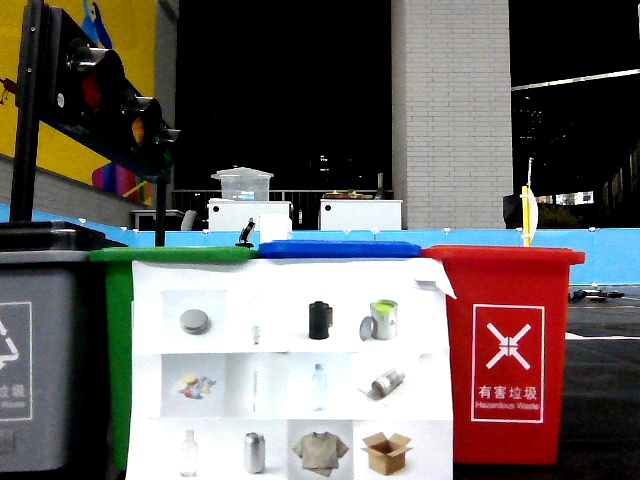hazardous_trash: (165, 292, 226, 352), (289, 291, 347, 350), (164, 358, 223, 412), (353, 293, 411, 347), (229, 292, 283, 349), (229, 356, 280, 410)
recyclable_trash: (355, 421, 420, 480), (288, 355, 348, 418), (289, 421, 352, 480), (162, 418, 220, 480), (355, 356, 415, 415), (226, 422, 287, 480)
